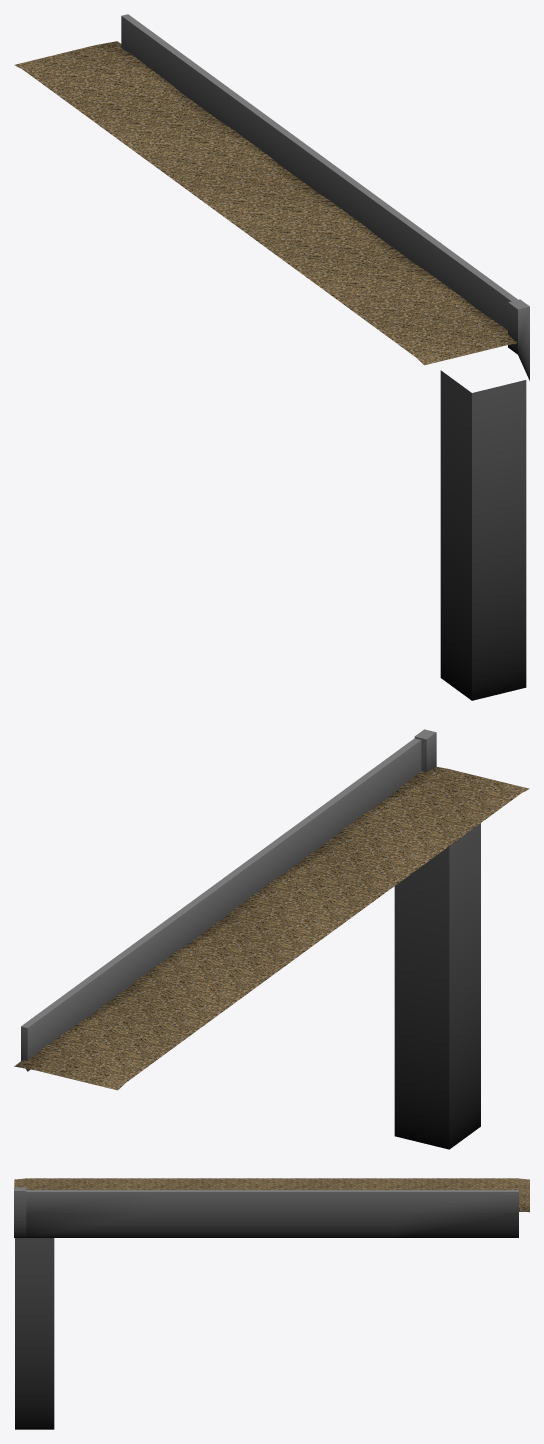
The model's file is KONKURI_L05.glb.
3 views of the same model, one above another, from view 1: azimuth 30°, elevation 25°; view 2: azimuth 150°, elevation 25°; view 3: azimuth 270°, elevation 25° (orthographic). The views are drawn at different scales.
Parts seen in each view (by area): view 1: Model; view 2: Model; view 3: Model.
Part boxes in pixels (box(x1,y1,x2,y2)): Model: box(14, 14, 529, 700); Model: box(14, 729, 529, 1149); Model: box(14, 1178, 529, 1429).
Size of the model in its own units: 15.5 by 53.54 by 105.
2 materials, 2 textured.
